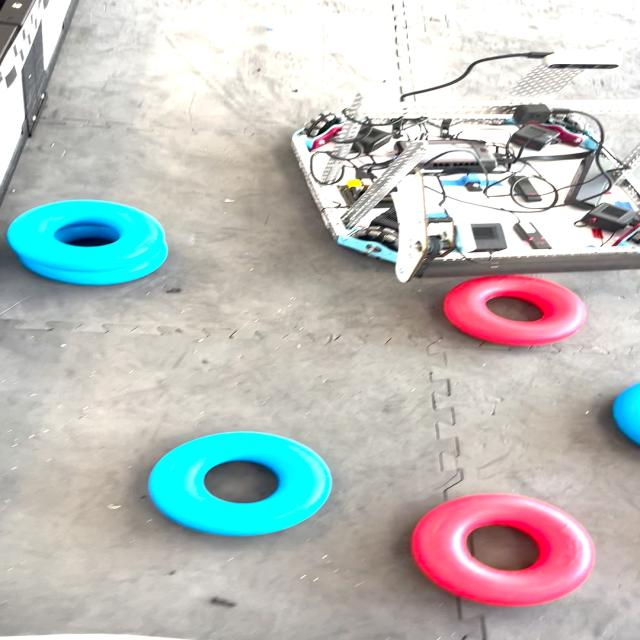Blue-Ring: (149, 431, 331, 536), (7, 200, 164, 271), (18, 246, 167, 285), (613, 384, 640, 445)
Red-Ring: (411, 494, 596, 606), (442, 275, 587, 346)
